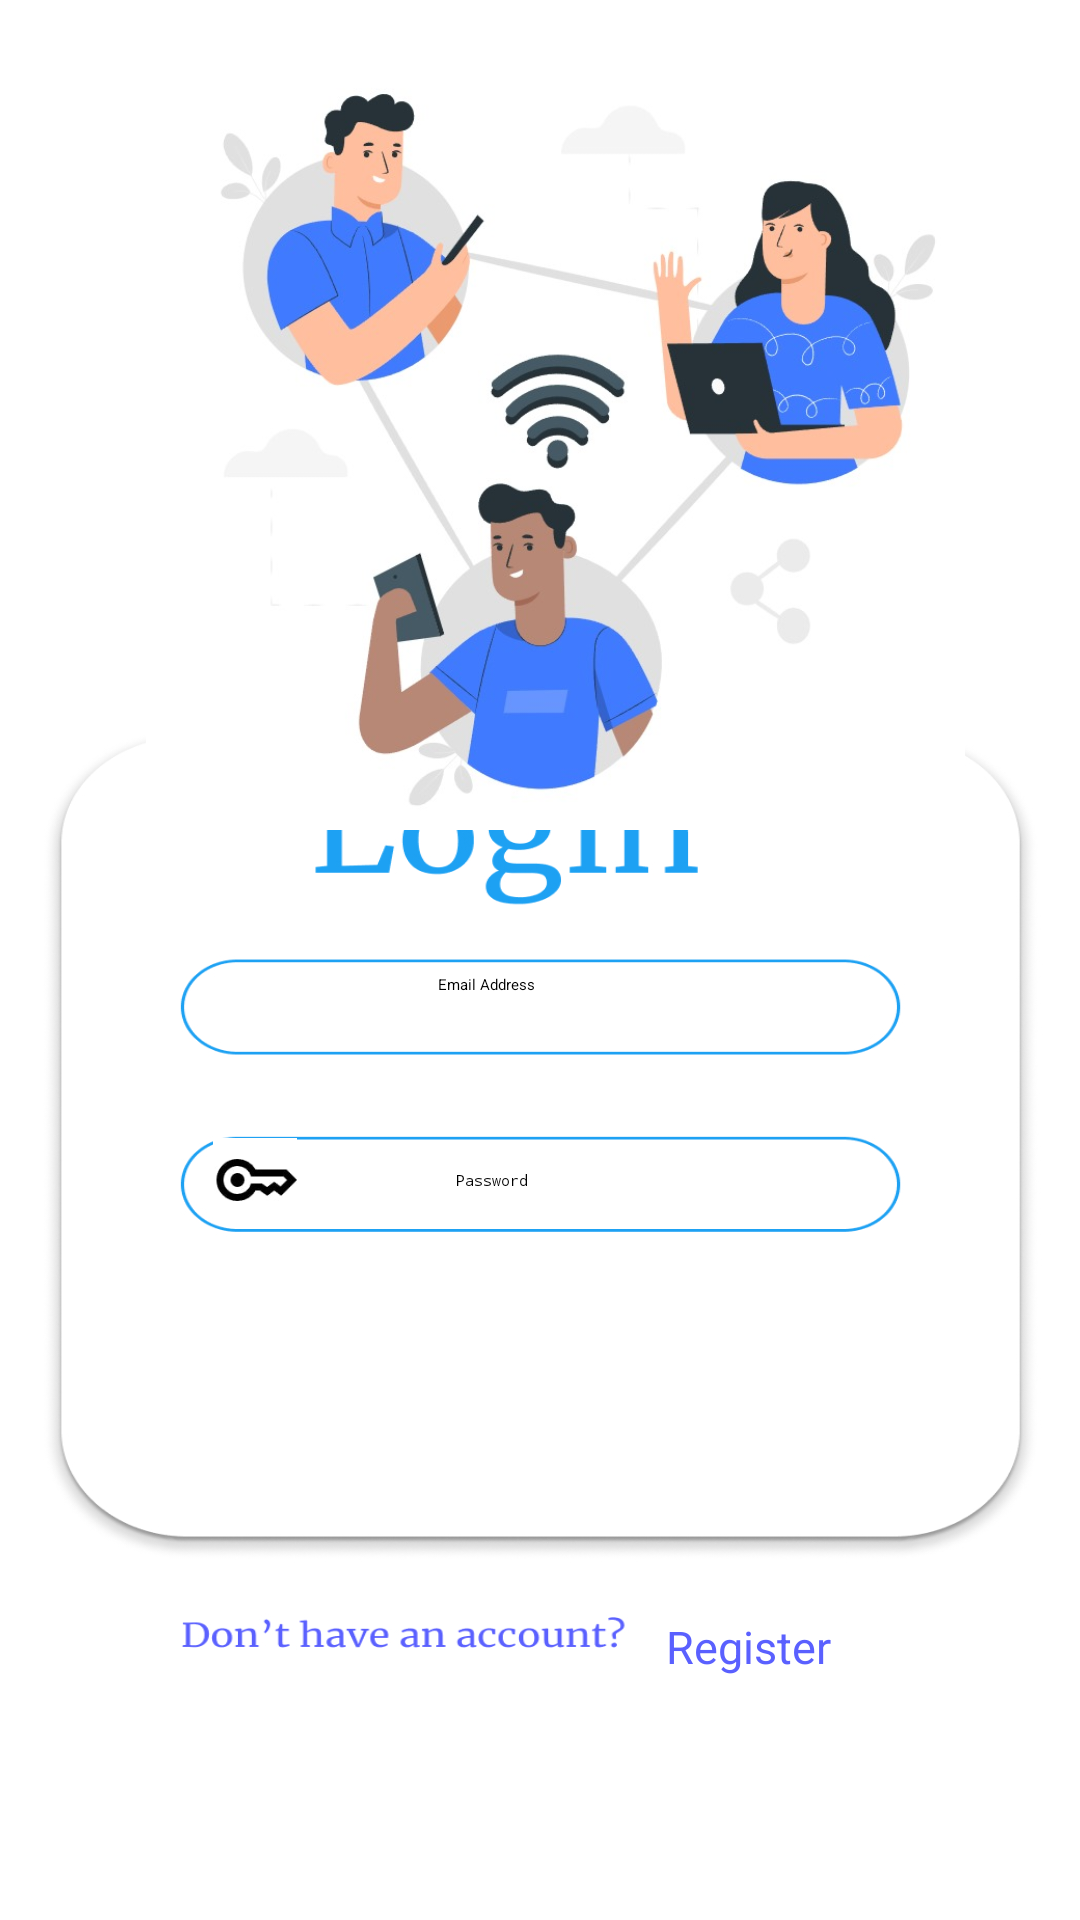

Point at icon controls on the screen. Image size 1080x1920, points as point (x, y).
loginpasswordicon: point (256, 1180)
